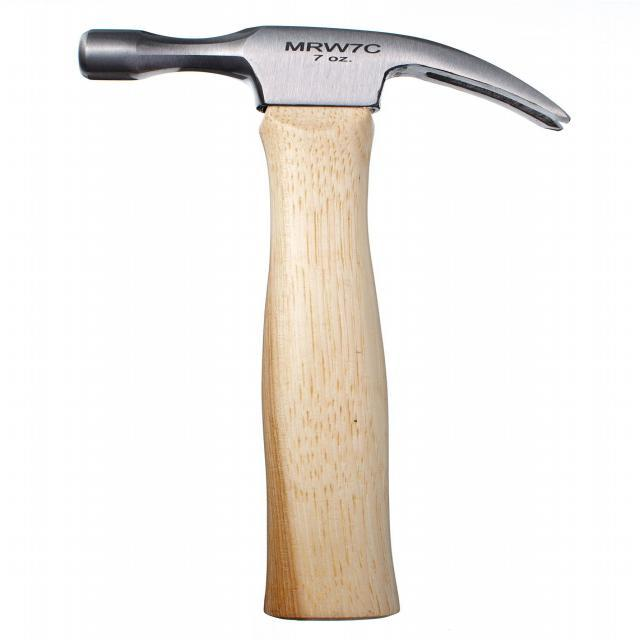hammer: (39, 12, 590, 632)
